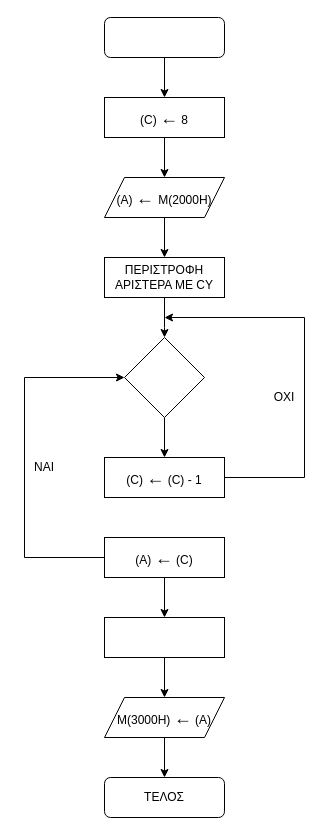
The diagram is 330 pixels wide and 835 high, and some of its shapes have lost their labels. The box of each missing label's shape, as (x1, y1, x2, y2) in pixels:
(A) ← (A)': (104, 616, 224, 658)
(CY) ≟ 1: (124, 336, 204, 418)
ΑΡΧΗ: (104, 16, 224, 58)
